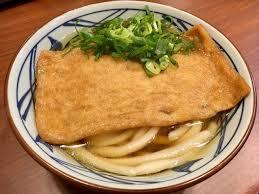kitune: (10, 3, 248, 183)
